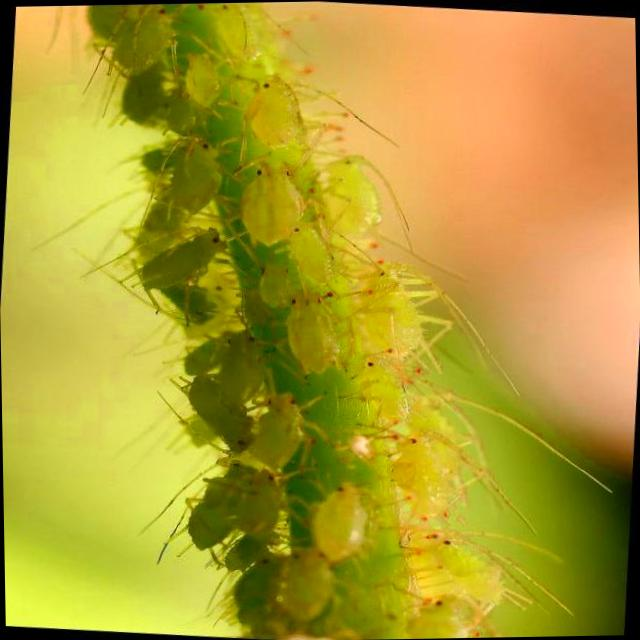aphid: (199, 140, 341, 274), (331, 246, 446, 364), (211, 52, 324, 154), (295, 467, 395, 579), (362, 424, 474, 522), (260, 276, 360, 380), (306, 133, 392, 249), (130, 213, 229, 296), (234, 382, 318, 468), (226, 466, 296, 548), (175, 42, 229, 110)
